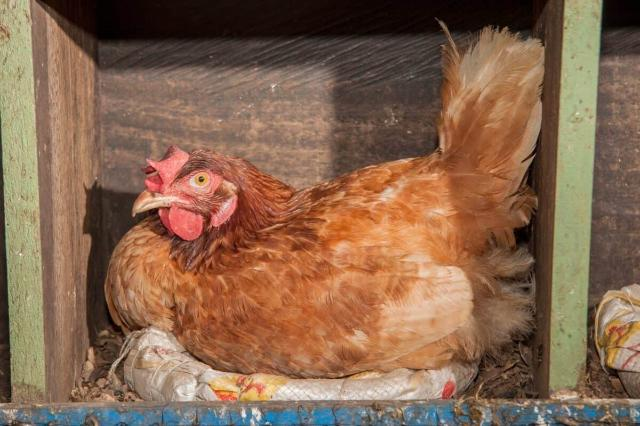Chicken: (105, 19, 546, 379)
